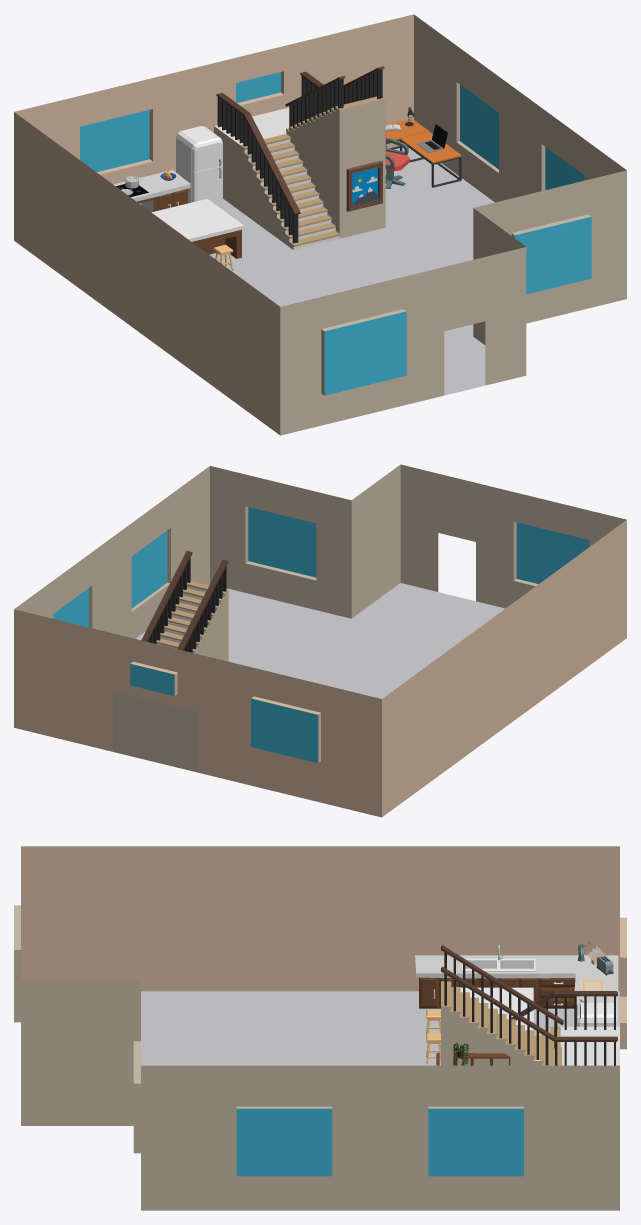
Rendered from insideHouse10.glb.
3 views of the same model, one above another, from view 1: azimuth 30°, elevation 25°; view 2: azimuth 150°, elevation 25°; view 3: azimuth 270°, elevation 25° (orthographic). The views are drawn at different scales.
Parts seen in each view (by area): view 1: wall_north_west, wall_east_south, stairs, floor, windows, fridge, kitchenTable, Kitchen, painting, Desk, chair; view 2: wall_north_west, wall_east_south, floor, windows, stairs; view 3: wall_north_west, wall_east_south, floor, windows, stairs, Kitchen, kitchenTable, fridge, stools.
Part boxes in pixels (<box>): wall_north_west: <box>14,14,413,435</box>; wall_east_south: <box>280,14,626,435</box>; stairs: <box>214,66,385,249</box>; floor: <box>209,147,494,395</box>; windows: <box>80,72,591,395</box>; fridge: <box>176,126,222,208</box>; kitchenTable: <box>151,198,244,258</box>; Kitchen: <box>113,168,190,212</box>; painting: <box>346,160,382,211</box>; Desk: <box>400,131,461,187</box>; chair: <box>385,130,409,170</box>; wall_north_west: <box>14,520,626,817</box>; wall_east_south: <box>14,464,626,638</box>; floor: <box>136,583,505,698</box>; windows: <box>53,507,589,763</box>; stairs: <box>113,551,228,772</box>; wall_north_west: <box>21,846,626,1049</box>; wall_east_south: <box>14,905,619,1210</box>; floor: <box>141,991,619,1065</box>; windows: <box>236,1108,523,1176</box>; stairs: <box>441,945,619,1065</box>; Kitchen: <box>415,941,618,1026</box>; kitchenTable: <box>460,987,533,1030</box>; fridge: <box>576,1002,616,1026</box>; stools: <box>426,1010,440,1064</box>.
Bounding box in the file's own units: 13.12 × 5.01 × 15.36.
93 materials, 1 textured.
